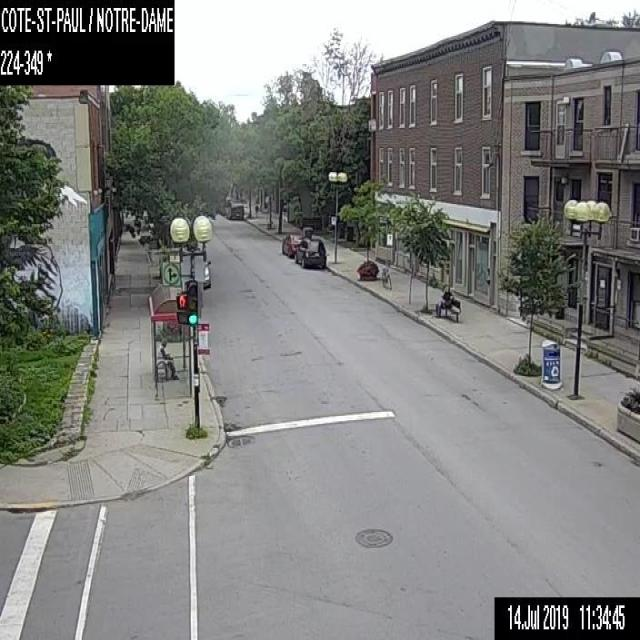pedestrian: (157, 339, 176, 380), (434, 283, 452, 317)
vehicle: (181, 244, 210, 289), (295, 237, 327, 267), (281, 233, 303, 255), (228, 202, 243, 218)
